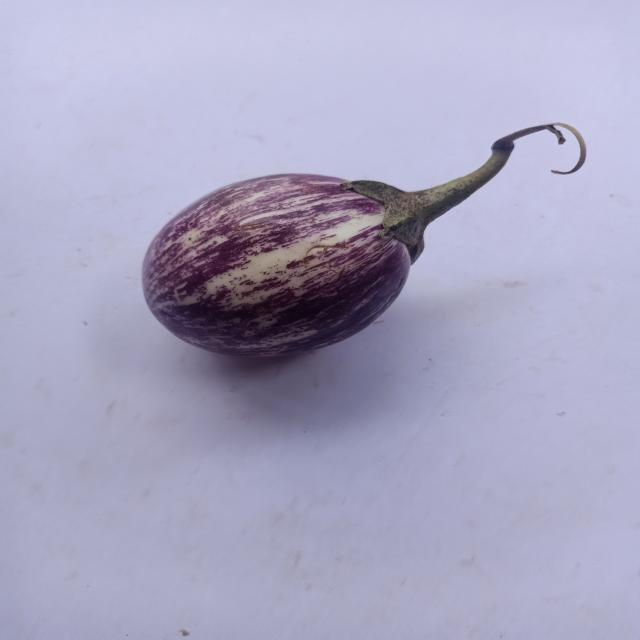Eggplant: (135, 103, 640, 414)
